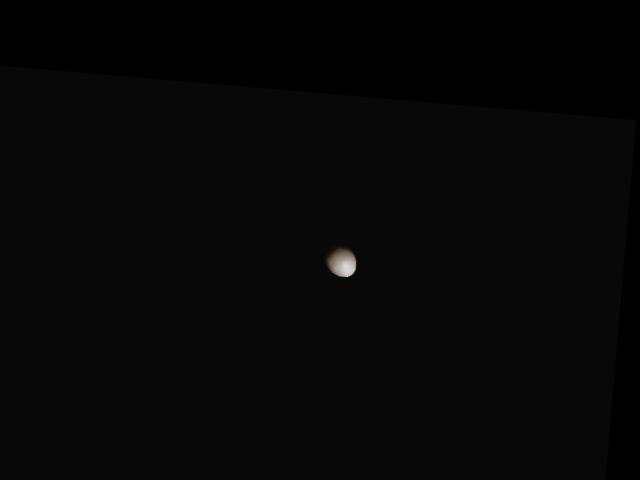egg: (322, 243, 357, 277)
